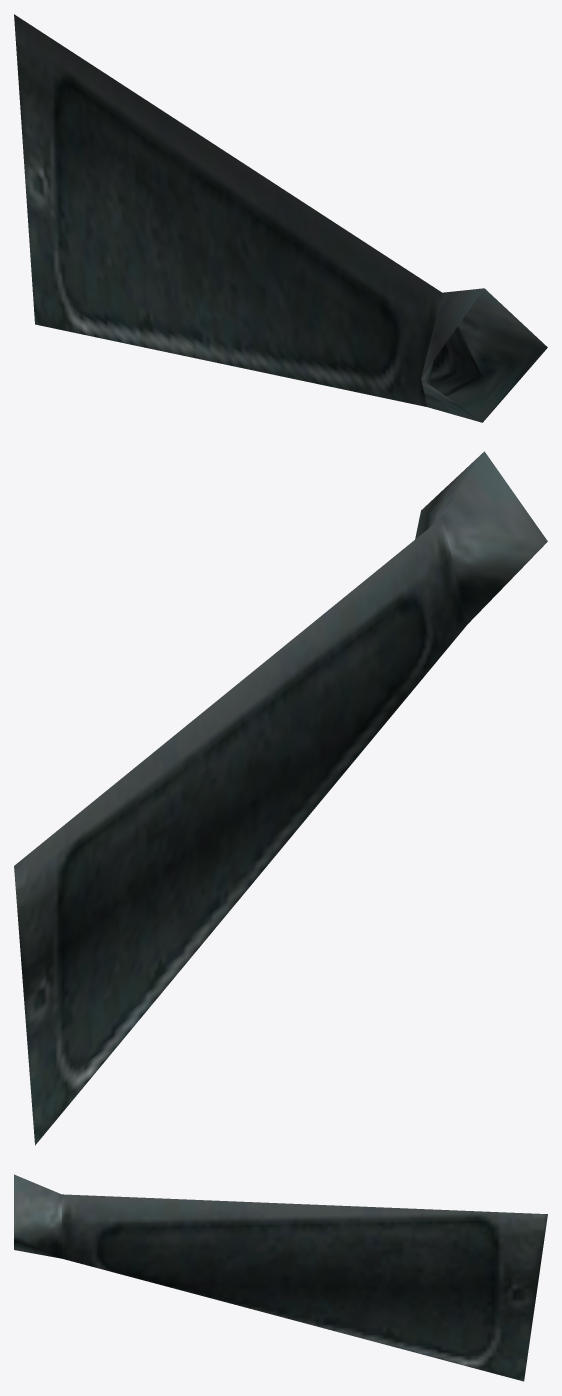
Rendered from wp_carbine_laser_stock_l2.fbx.
3 renders of one model, top to bottom at view 1: azimuth 30°, elevation 25°; view 2: azimuth 150°, elevation 25°; view 3: azimuth 270°, elevation 25°, orthographic. The views are drawn at different scales.
Visible parts, largest first — view 1: mesh_node; view 2: mesh_node; view 3: mesh_node.
Part boxes in pixels (x1=…): mesh_node: x1=14, y1=14, x2=547, y2=422; mesh_node: x1=14, y1=451, x2=547, y2=1145; mesh_node: x1=14, y1=1174, x2=547, y2=1381.
Bounding box in the file's own units: 0.0415 × 0.1142 × 0.2666.
